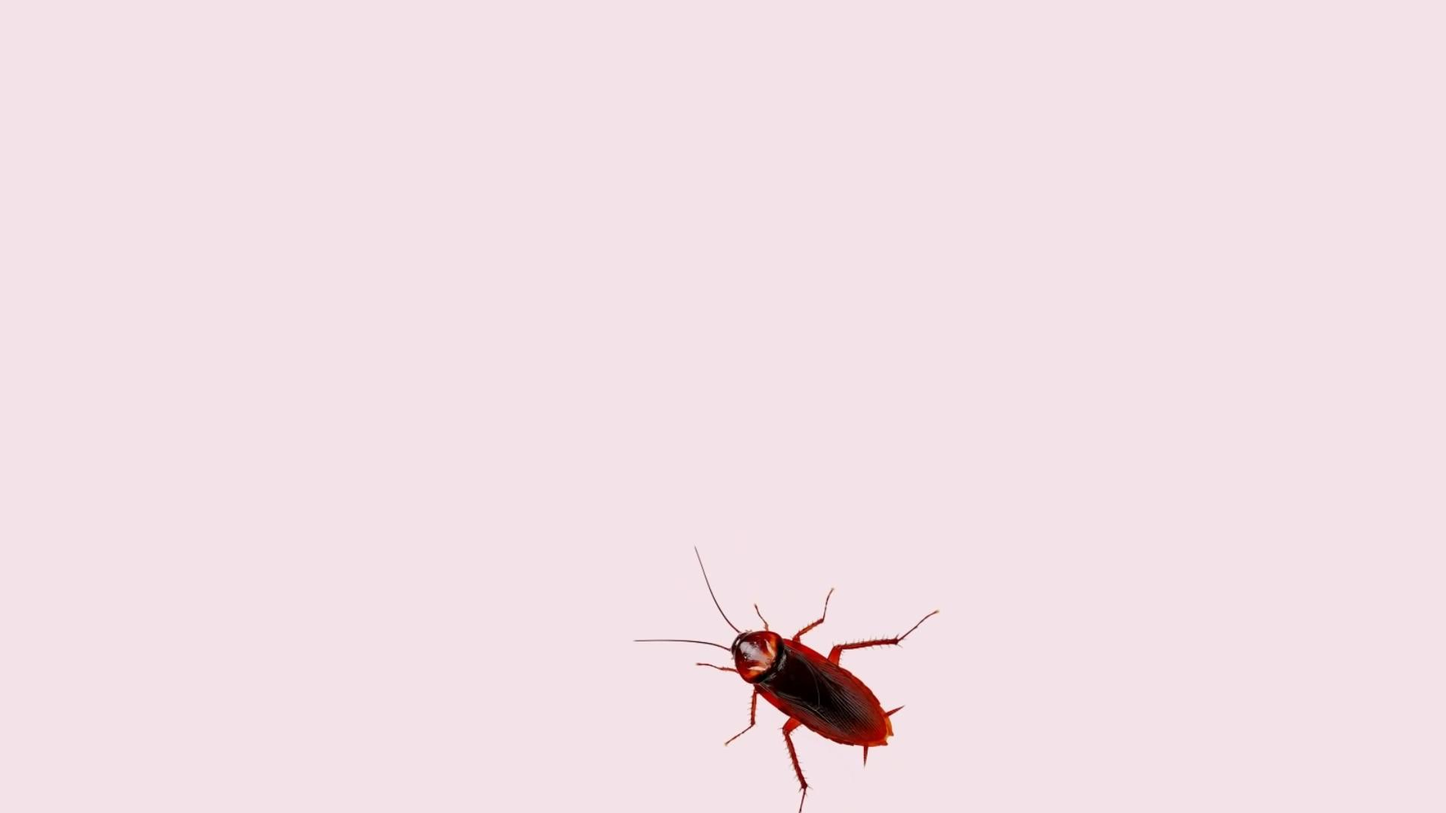cockroach: (616, 550, 951, 808)
